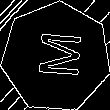M_W: (29, 32, 82, 82)
